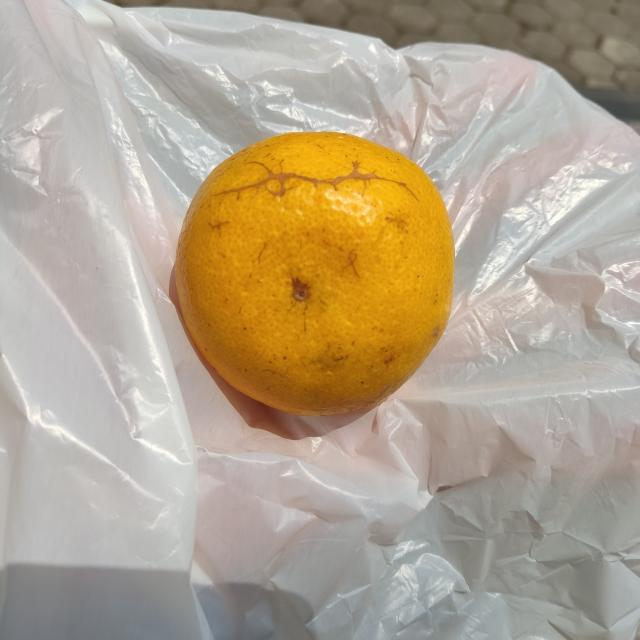orange: (168, 130, 458, 418)
